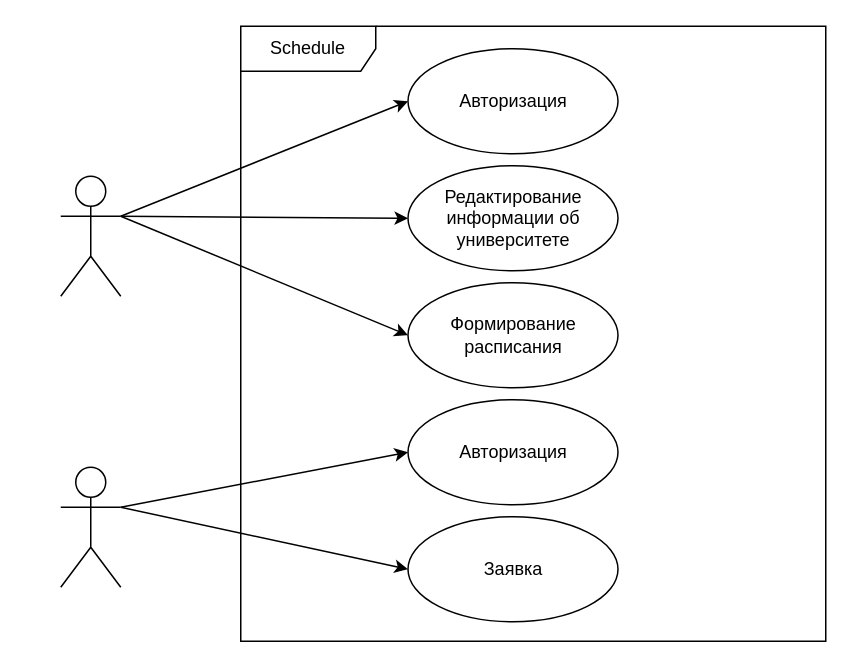
The diagram is 852 pixels wide and 668 high, and some of its shapes have lost their labels. Each missing label, with the box of its shape:
Администратор: (59, 175, 121, 296)
Преподаватель: (59, 466, 121, 587)
